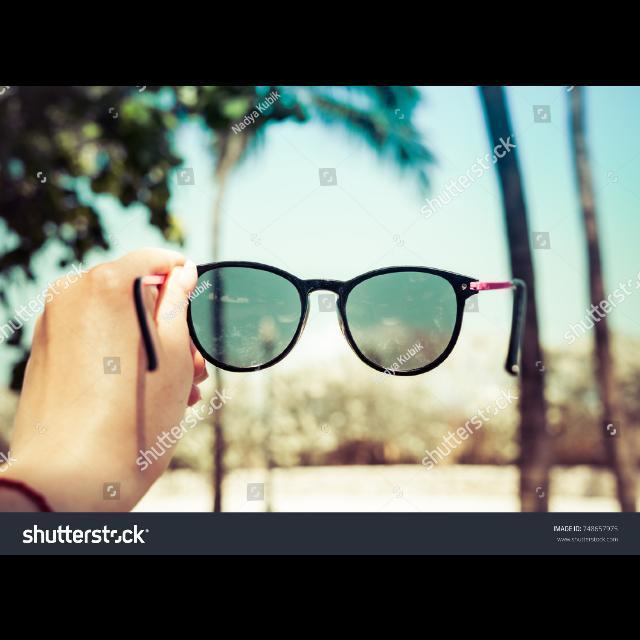sunglasses: (131, 260, 534, 376)
